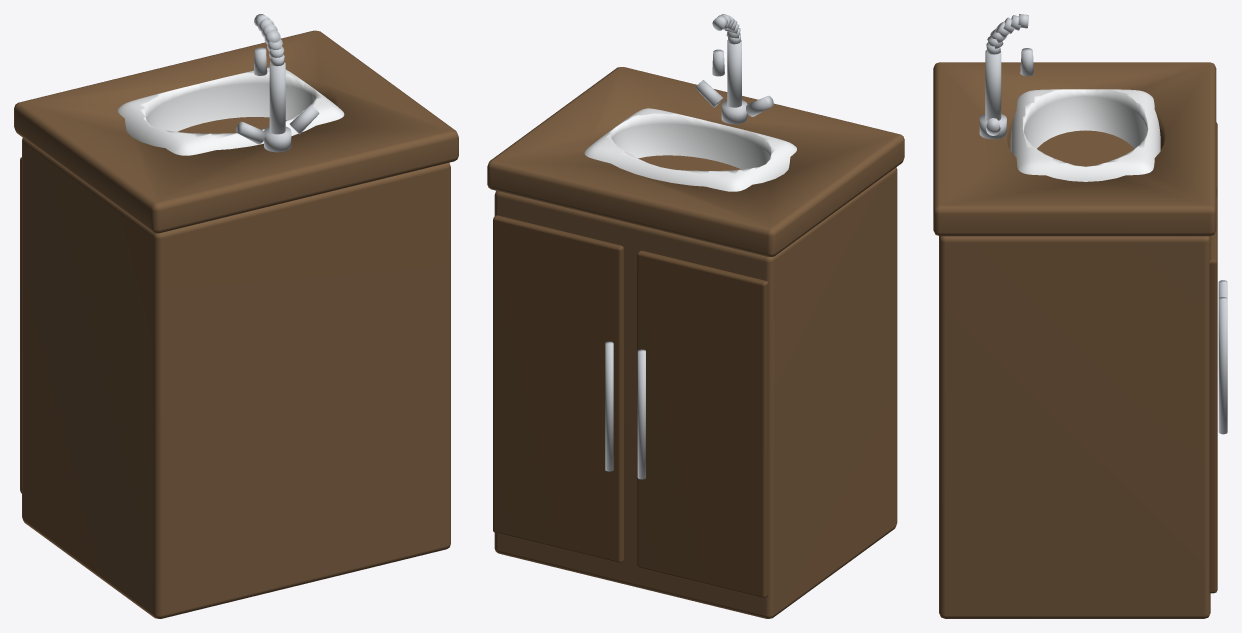
Rendered from basin.glb.
3 views of the same model, side by side, from view 1: azimuth 30°, elevation 25°; view 2: azimuth 150°, elevation 25°; view 3: azimuth 270°, elevation 25° (orthographic). The views are drawn at different scales.
Parts seen in each view (by area): view 1: cabinet; view 2: cabinet; view 3: cabinet.
Part boxes in pixels (left/top/right/bottom): cabinet: left=14, top=14, right=458, bottom=618; cabinet: left=487, top=14, right=904, bottom=618; cabinet: left=933, top=14, right=1227, bottom=618.
Bounding box in the file's own units: 0.62 × 1.04 × 0.52.
